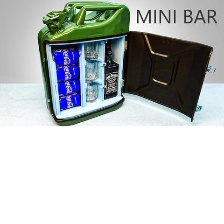bottle: (103, 34, 120, 102)
can: (48, 45, 80, 65), (54, 79, 84, 97), (54, 65, 82, 84), (56, 93, 86, 110)
glass: (83, 58, 101, 82), (83, 81, 101, 103), (84, 38, 100, 61)
